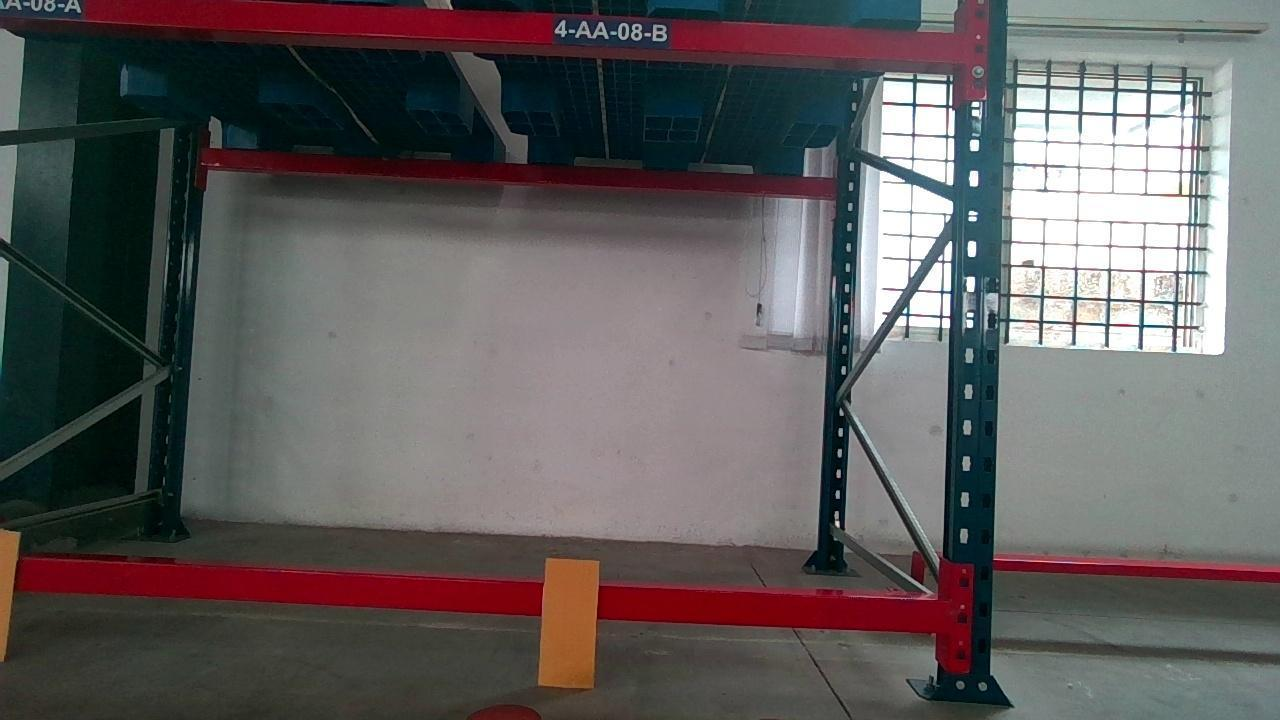h_rack: (0, 557, 963, 632), (0, 0, 966, 67)
orange_strip: (538, 557, 599, 687)
